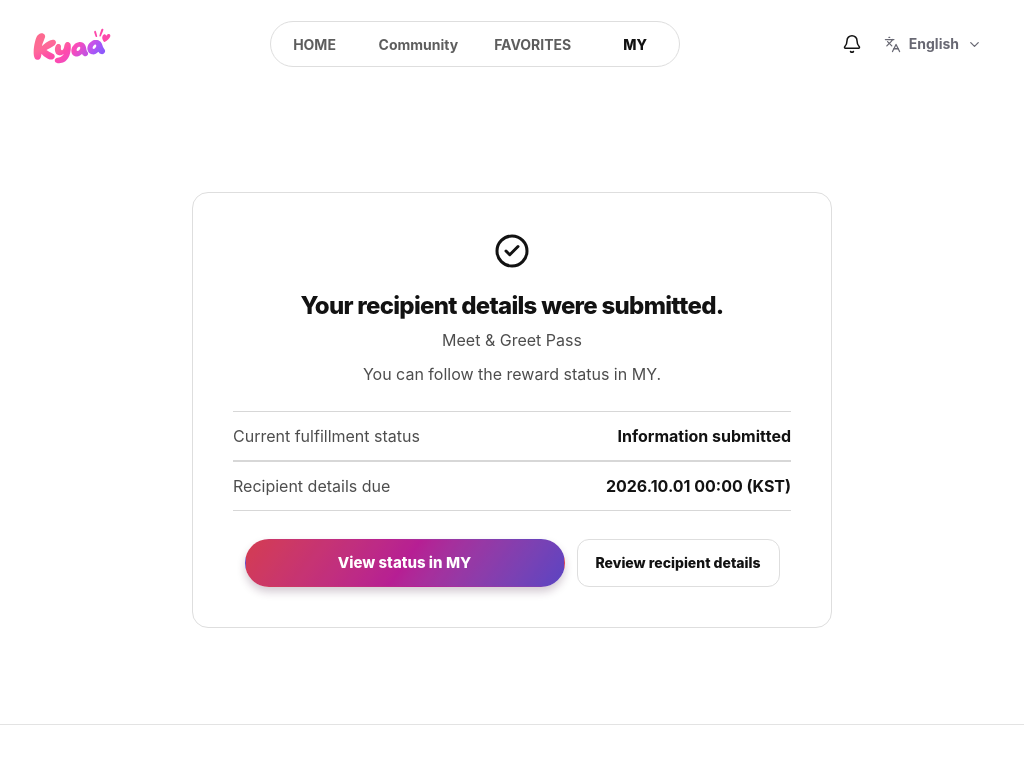
Test: Benefit recipient screen › keeps a saved Unicode recipient in the completed view until explicitly editing
Expected: the heading "Your recipient details were submitted." is shown, [300, 291, 724, 320]
Click the button "Review recipient details" at (678, 563), box [576, 539, 780, 587]
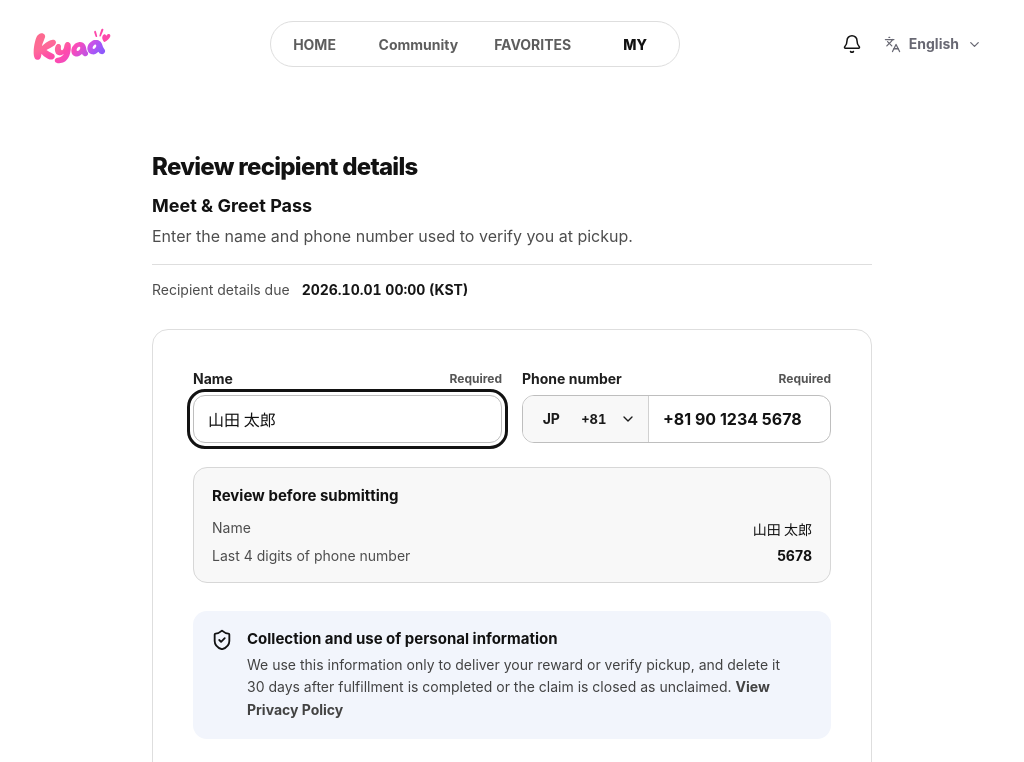
Now the field labelled "Name Required" holds "山田 太郎"
Now the dropdown named "Country calling code" reads "JP +81", box [523, 396, 649, 442]
Now the text "5678" is shown, box [777, 547, 812, 564]
Replace the text in the field labelled "Name Required" with "山田 花子" at (348, 419), box [193, 395, 502, 443]
(page scrolled)
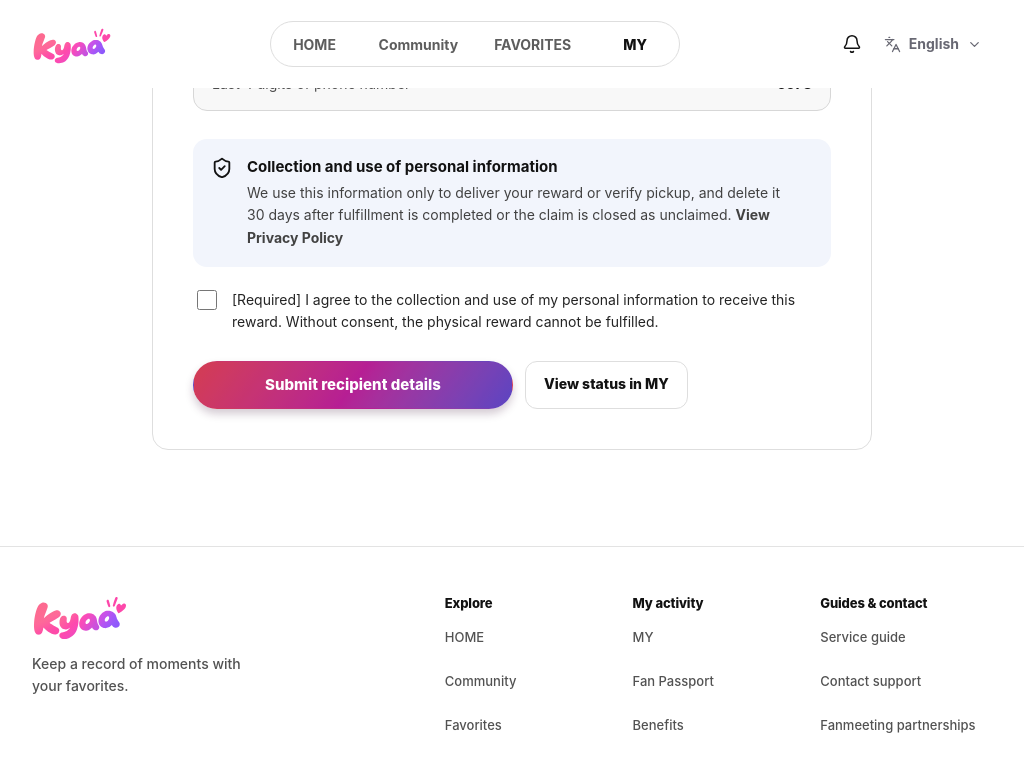
Now the button "Submit recipient details" is enabled, box [193, 360, 513, 408]
